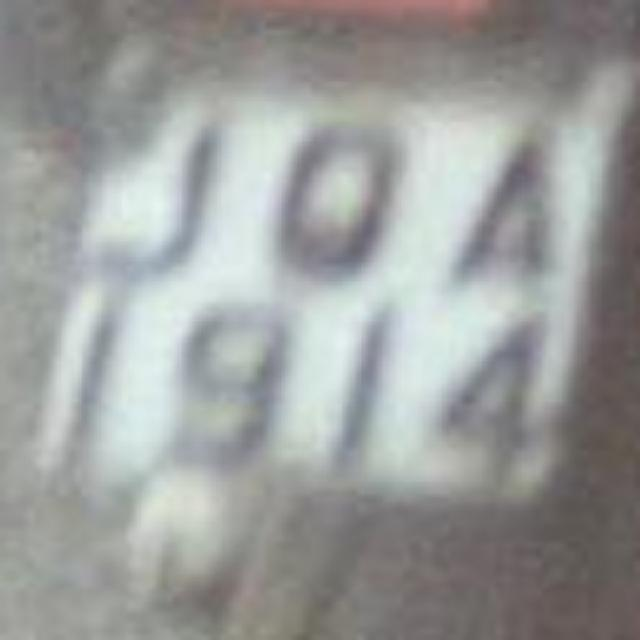1: (44, 280, 151, 515), (304, 268, 416, 484)
4: (429, 275, 556, 500)
9: (156, 268, 309, 492)
J: (64, 96, 244, 304)
O: (245, 96, 420, 292)
